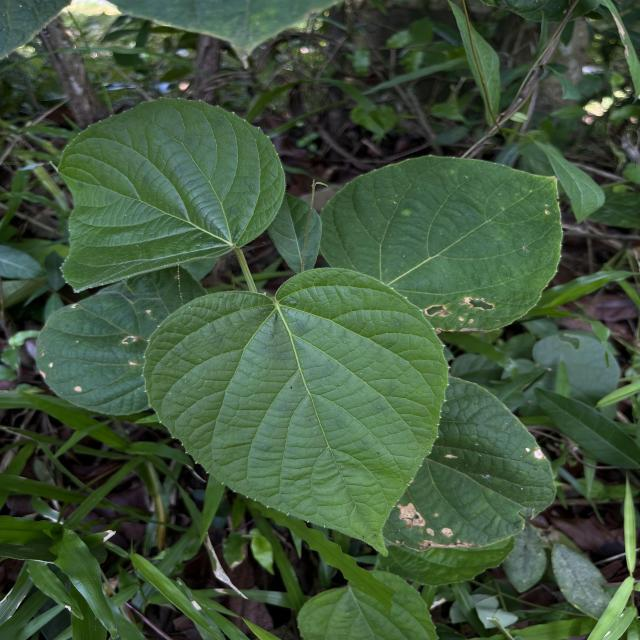Clerodendrum infortunatum: (138, 266, 455, 560), (47, 95, 290, 296), (316, 152, 568, 336)
